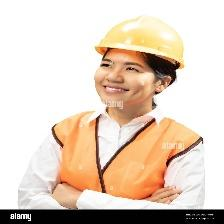Person: (11, 1, 215, 209)
helmet: (93, 14, 187, 70)
vest: (48, 105, 204, 198)
